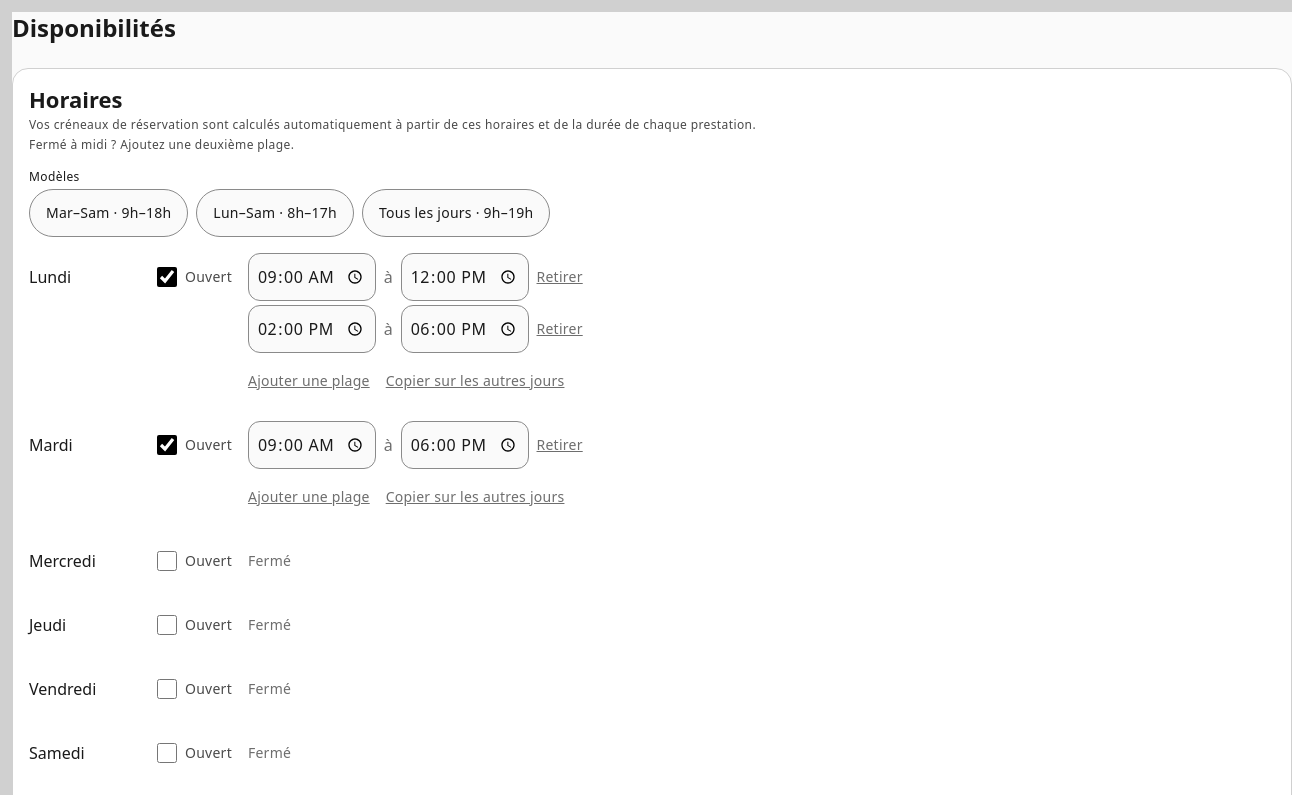
Test: §2.1 — every range of a day, on screen and editable › « Ajouter une plage » proposes one hour after the last, four hours long
Replace the text in the time field named "Mardi fin" with "12:00": (465, 445) top-left (401, 421), bottom-right (528, 469)
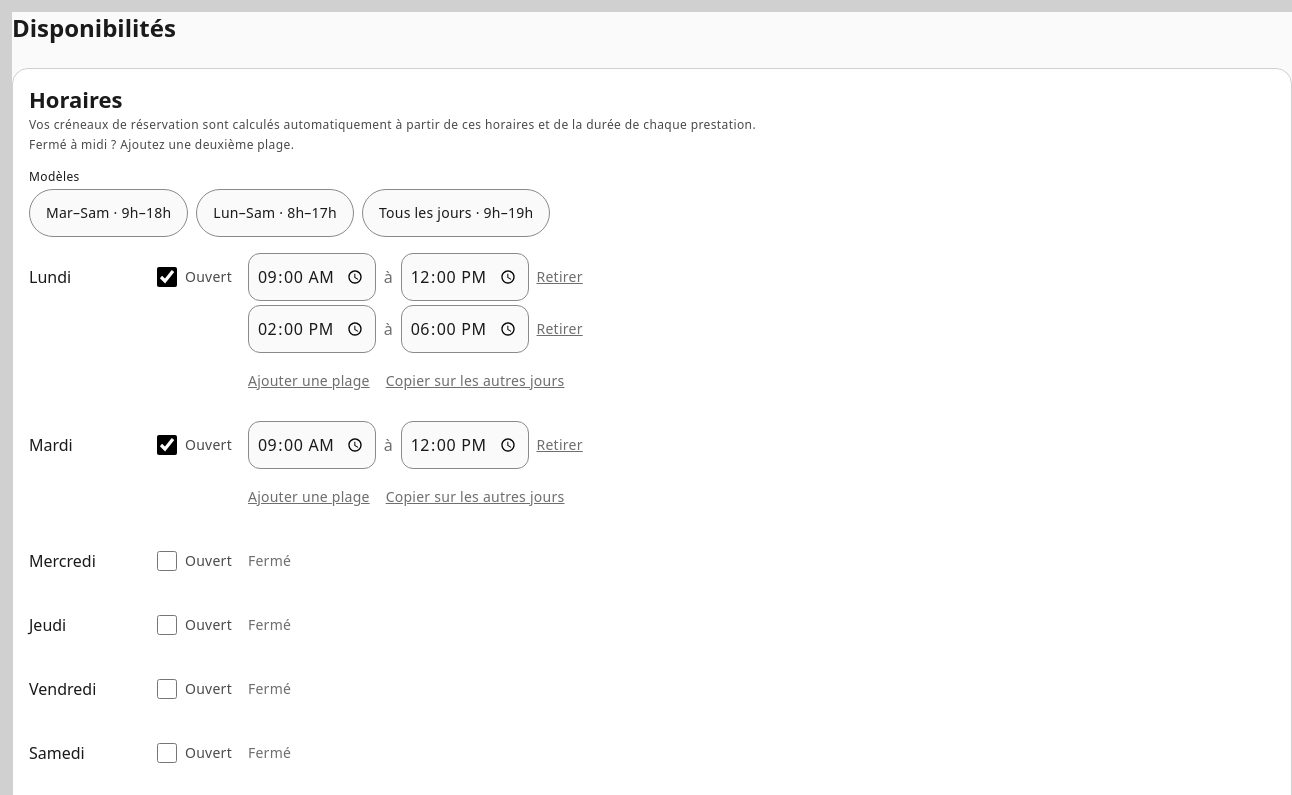
Click the button with aria-label "Ajouter une plage le mardi": (309, 497) top-left (248, 473), bottom-right (370, 521)
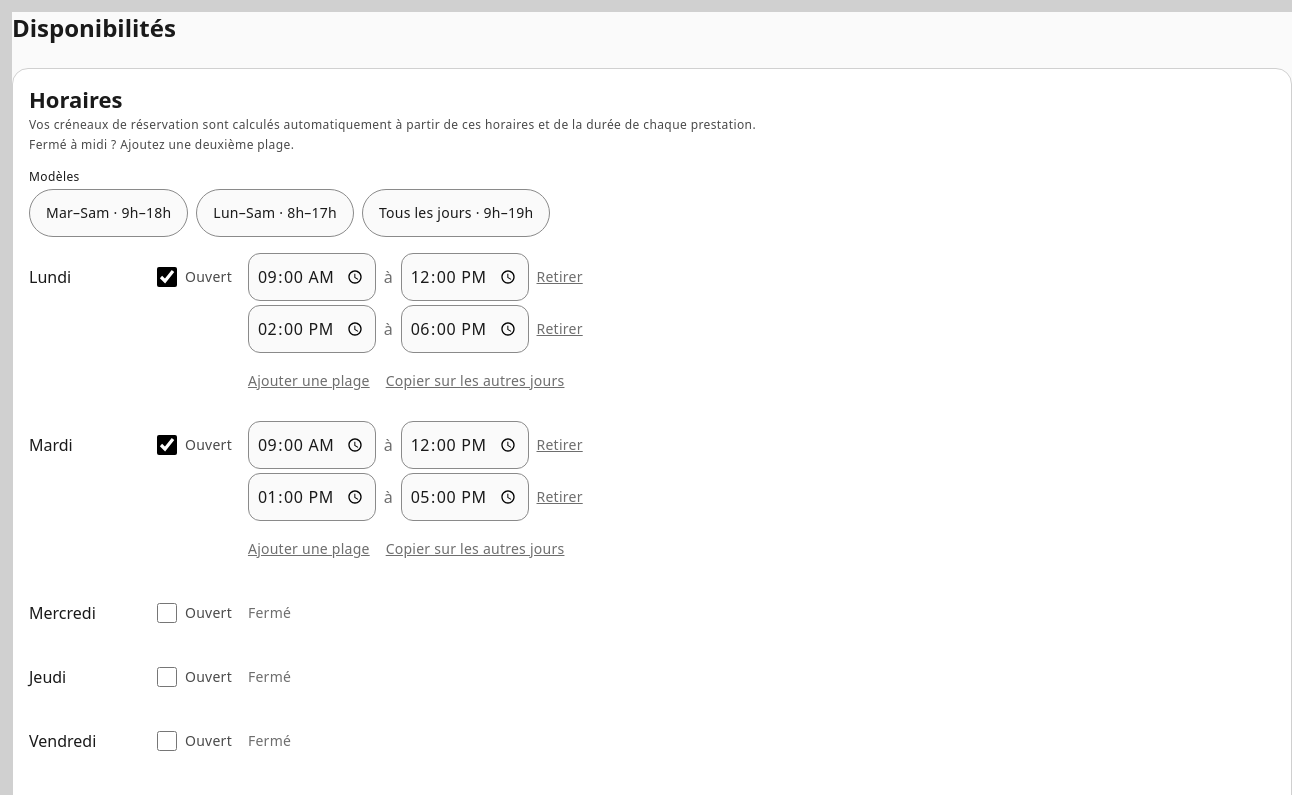
expect the time field named "Mardi, plage 2, début" holds "13:00": met, box top-left (248, 473), bottom-right (376, 521)
expect the time field named "Mardi, plage 2, fin" holds "17:00": met, box top-left (401, 473), bottom-right (528, 521)
